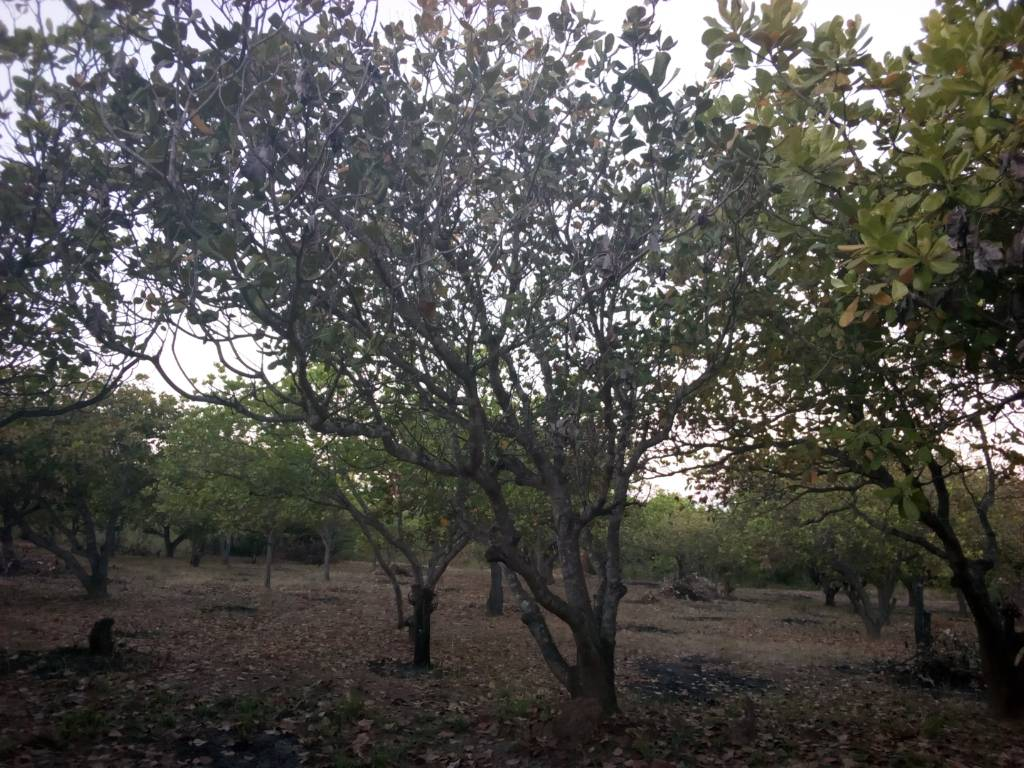Termites: (552, 696, 601, 727)
